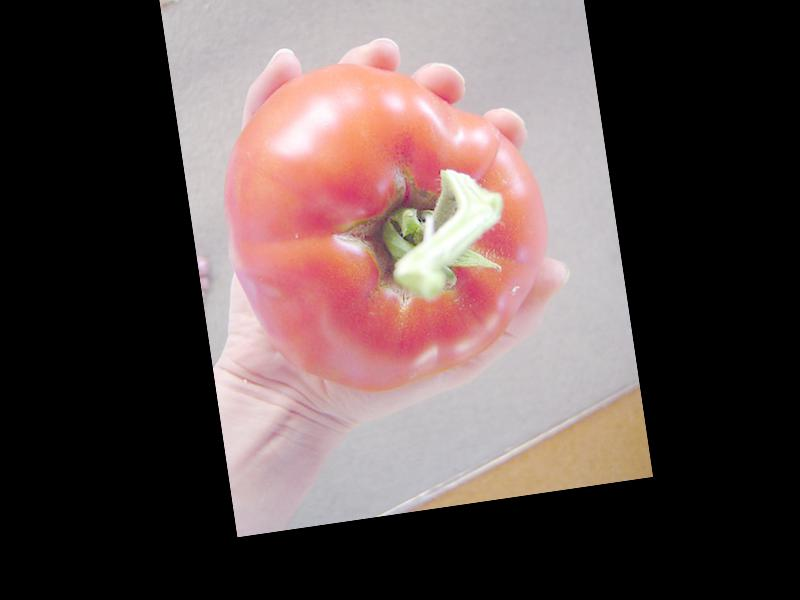Tomato: (206, 38, 568, 408)
